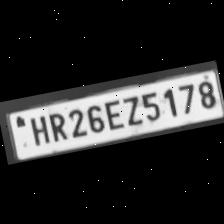1: (158, 84, 180, 118)
2: (62, 104, 88, 138)
5: (137, 86, 164, 122)
6: (82, 100, 106, 134)
7: (172, 79, 198, 115)
8: (192, 76, 218, 112)
E: (101, 96, 125, 130)
H: (26, 111, 50, 146)
R: (44, 108, 69, 144)
Z: (118, 90, 142, 127)
